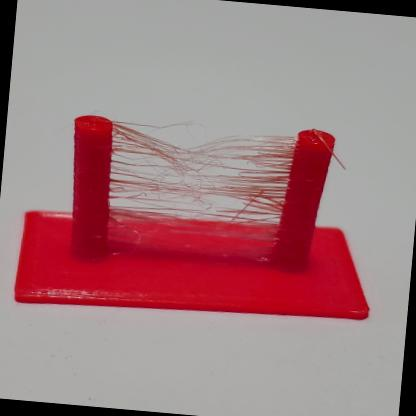fail: (109, 121, 298, 224)
